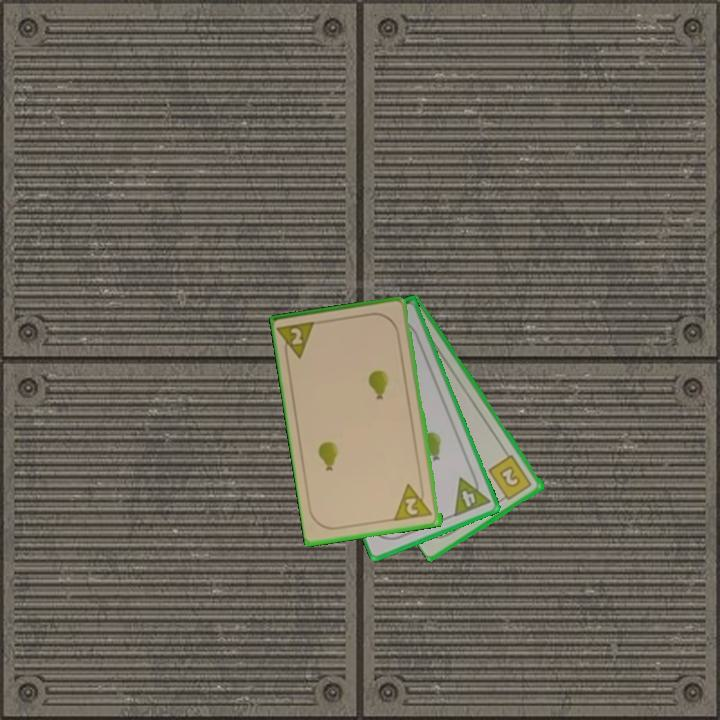2b: (485, 452, 535, 504)
2p: (392, 479, 436, 524), (287, 324, 306, 348)
4p: (450, 469, 493, 519)
